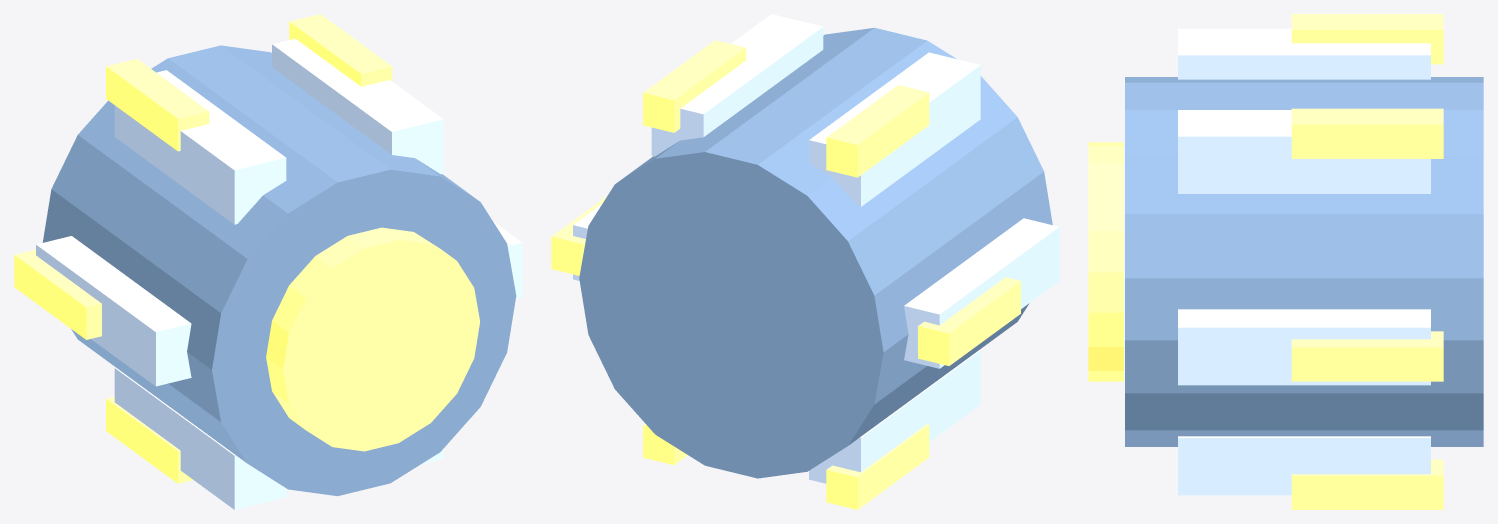
Rendered from reload_booster.glb.
3 renders of one model, left to right at view 1: azimuth 30°, elevation 25°; view 2: azimuth 150°, elevation 25°; view 3: azimuth 270°, elevation 25°, orthographic. The views are drawn at different scales.
Visible parts, largest first — view 1: booster_core, active_cap, coil_2, coil_3, coil_1, coil_4, coil_energy_2, coil_energy_3, coil_energy_1, coil_energy_4, coil_0; view 2: booster_core, coil_2, coil_3, coil_1, coil_4, coil_energy_2, coil_energy_3, coil_energy_1, coil_energy_4, coil_energy_0, coil_energy_5; view 3: booster_core, coil_1, coil_0, coil_5, coil_2, active_cap, coil_energy_1, coil_energy_0, coil_energy_5, coil_energy_2.
Part boxes in pixels (box(x1,y1,x2,y2)): booster_core: box(42, 45, 516, 496); active_cap: box(266, 227, 479, 451); coil_2: box(114, 70, 286, 224); coil_3: box(36, 236, 191, 386); coil_1: box(272, 38, 443, 174); coil_4: box(114, 367, 286, 509); coil_energy_2: box(106, 59, 209, 151); coil_energy_3: box(14, 249, 101, 339); coil_energy_1: box(289, 14, 392, 86); coil_energy_4: box(106, 396, 192, 483); coil_0: box(493, 221, 522, 298); booster_core: box(579, 27, 1052, 478); coil_2: box(809, 52, 980, 206); coil_3: box(904, 218, 1059, 368); coil_1: box(651, 14, 823, 156); coil_4: box(809, 350, 980, 483); coil_energy_2: box(826, 85, 929, 177); coil_energy_3: box(918, 277, 1020, 365); coil_energy_1: box(643, 40, 746, 132); coil_energy_4: box(826, 424, 929, 509); coil_energy_0: box(551, 196, 606, 275); coil_energy_5: box(643, 423, 687, 464); booster_core: box(1125, 77, 1483, 446); coil_1: box(1178, 110, 1430, 193); coil_0: box(1178, 309, 1430, 385); coil_5: box(1178, 436, 1430, 495); coil_2: box(1178, 28, 1430, 79); active_cap: box(1088, 142, 1123, 381); coil_energy_1: box(1291, 108, 1443, 158); coil_energy_0: box(1291, 331, 1443, 381); coil_energy_5: box(1291, 459, 1443, 509); coil_energy_2: box(1291, 14, 1443, 64).
Size of the model in its own units: 2.3 by 2.02 by 1.88.
